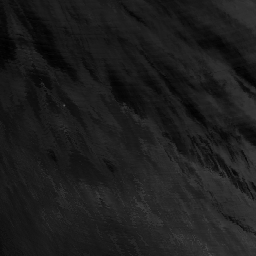Target: (61, 103, 65, 107)
